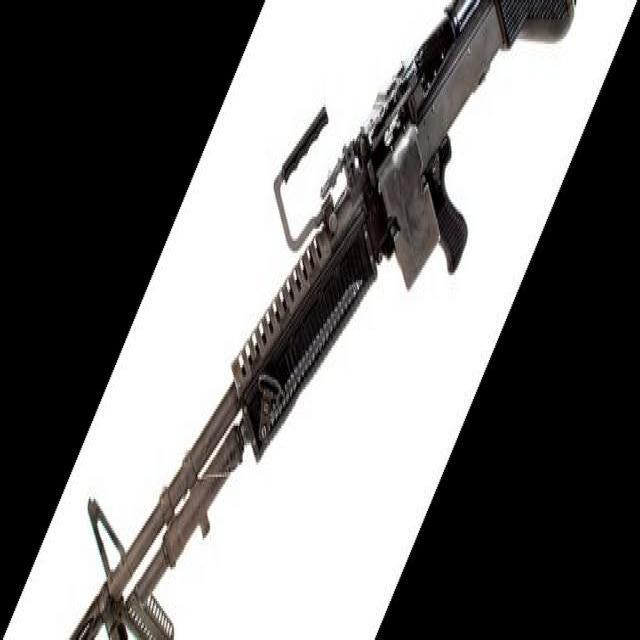weapon: (70, 2, 576, 640)
